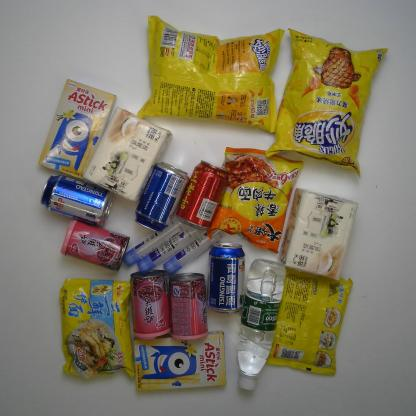Alcohol: (39, 174, 115, 228), (134, 162, 189, 233), (206, 240, 245, 314)
Canned Food: (60, 219, 130, 271), (129, 269, 170, 342), (169, 272, 208, 341)
Dessert: (38, 78, 116, 181), (132, 329, 228, 393)
Drink: (236, 258, 286, 393), (177, 160, 231, 232)
Instant Noodles: (207, 145, 304, 256), (264, 268, 354, 376), (58, 277, 134, 379)
Puffed Food: (265, 26, 388, 179), (136, 13, 285, 134)
Stationery: (136, 226, 202, 274), (123, 219, 187, 267), (163, 229, 226, 274)
Tissue: (81, 106, 173, 201), (276, 188, 358, 280)
